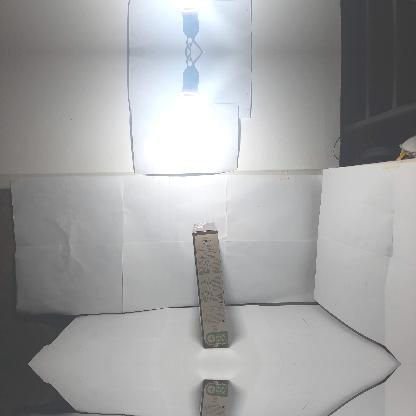Koko-Krunch: (192, 222, 228, 348), (191, 380, 229, 415)
